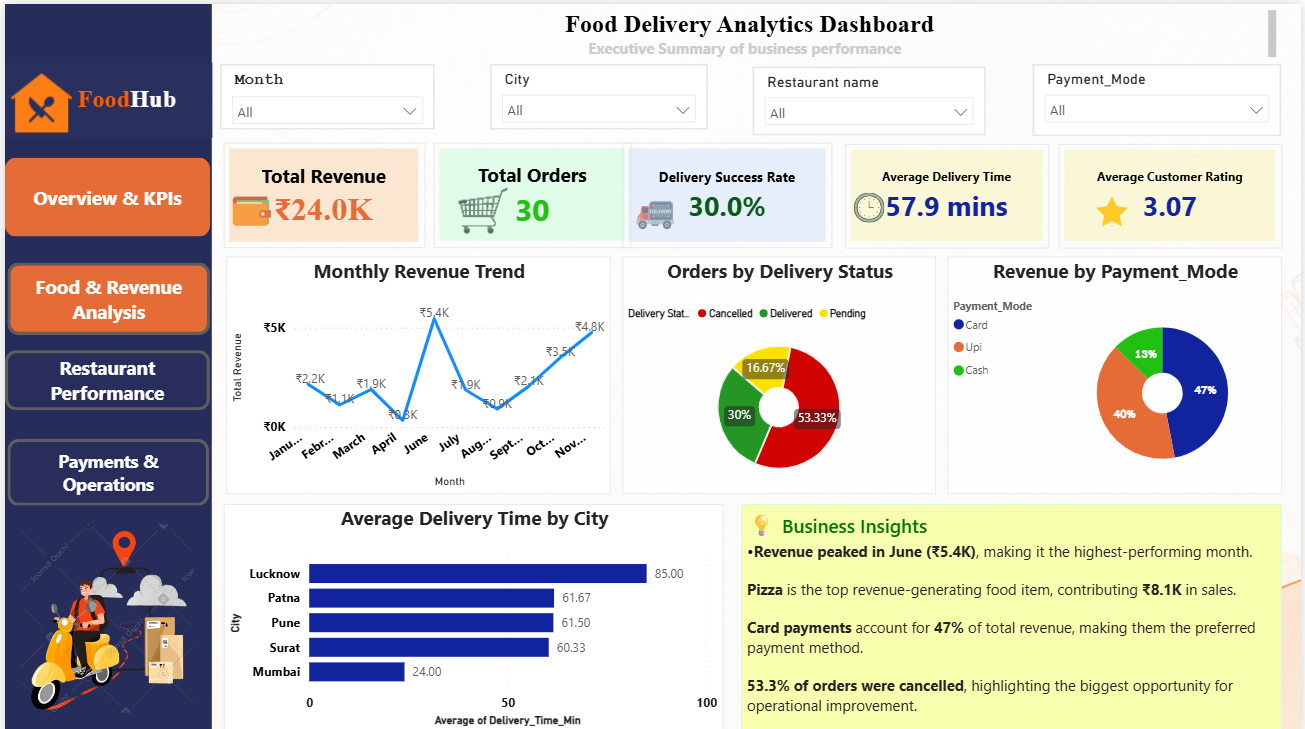

This screenshot's page, from the dashboard's own definition file:
{"tool":"powerbi","page":{"name":"Overview & KPIs","canvas":[1280,720],"ordinal":0},"visuals":[{"type":"textbox","box":[212.8,1.2,1048,56.7],"z":0},{"type":"shape","box":[0,0,204.4,719.4],"z":1000},{"type":"cardVisual","fields":{"Data":["Order_detail.Total Revenue"]},"box":[216.3,137.6,199,104.1],"z":1000,"group":"g3"},{"type":"group","id":"g1","title":"Group 4","box":[212.5,59.1,1047.7,70.5],"z":2000},{"type":"lineChart","title":"Monthly Revenue Trend","fields":{"Category":["Order_detail.Order_Date.Variation.Date Hierarchy.Month"],"Y":["Order_detail.Total Revenue"]},"box":[218.6,250.2,379.9,234.4],"z":2000,"group":"g4"},{"type":"cardVisual","fields":{"Data":["Order_detail.Delivery Success Rate"]},"box":[610.7,137.6,207,104.1],"z":3000,"group":"g3"},{"type":"clusteredBarChart","title":"Average  Delivery Time  by City","fields":{"Category":["Order_detail.City"],"Y":["Avg(Order_detail.Delivery_Time_Min)"]},"box":[216.3,493.9,493.9,225.6],"z":3000},{"type":"donutChart","title":"Orders by Delivery  Status","fields":{"Category":["Order_detail.Delivery _Status"],"Y":["Order_detail.Total Orders"]},"box":[609.6,249.8,309.7,234.4],"z":4000,"group":"g4"},{"type":"textbox","box":[727.6,493.9,533.2,225.6],"z":4000},{"type":"cardVisual","fields":{"Data":["Order_detail.Total Orders"]},"box":[423.3,137.6,195.1,103.7],"z":5000,"group":"g3"},{"type":"image","box":[222.7,178.4,43.2,51.1],"z":5000},{"type":"image","box":[443,179.3,57.8,48.6],"z":6000},{"type":"donutChart","title":"Revenue by Payment_Mode","fields":{"Category":["Order_detail.Payment_Mode"],"Y":["Order_detail.Total Revenue"]},"box":[930.4,249.8,330.4,234.4],"z":6000,"group":"g4"},{"type":"actionButton","box":[2.3,255.2,200,71.3],"z":6000,"group":"g2"},{"type":"actionButton","box":[0,151.8,202.5,77.8],"z":7000,"group":"g2"},{"type":"image","box":[617.7,182.8,49.7,40.5],"z":7000},{"type":"image","box":[2.3,60.9,56.7,48.5],"z":8000},{"type":"actionButton","title":"Payments  &","box":[2.3,429.3,199,65.9],"z":8000,"group":"g2"},{"type":"group","id":"g2","title":"Group 3","box":[0,57.9,204.7,437.3],"z":9000},{"type":"textbox","title":"FoodHub","box":[0,57.9,204.7,74],"z":9000,"group":"g2"},{"type":"cardVisual","fields":{"Data":["Order_detail.Average Customer Rating"]},"box":[1041,138.8,220.9,102.9],"z":9000,"group":"g3"},{"type":"slicer","fields":{"Values":["Order_detail.Order_Date.Variation.Date Hierarchy.Month"]},"box":[212.5,59.1,212.1,64.5],"z":10000,"group":"g1"},{"type":"image","box":[4.6,67.1,62.5,64.8],"z":10000},{"type":"slicer","fields":{"Values":["Order_detail.City"]},"box":[478.6,59.1,214.9,64.5],"z":11000,"group":"g1"},{"type":"group","id":"g3","title":"Group 1","box":[216.3,137.6,1045.7,104.1],"z":11000},{"type":"slicer","fields":{"Values":["Restaurants_Details.Restaurant name"]},"box":[737.9,61.3,230.1,67.8],"z":12000,"group":"g1"},{"type":"group","id":"g4","title":"Group 2","box":[218.6,249.8,1042.2,234.8],"z":12000},{"type":"image","box":[838.3,182,30.1,39.3],"z":12001,"group":"g3"},{"type":"slicer","fields":{"Values":["Order_detail.Payment_Mode"]},"box":[1015.1,59.1,245.4,71],"z":13000,"group":"g1"},{"type":"actionButton","box":[0,342.3,202.3,59.3],"z":13000,"group":"g2"},{"type":"image","box":[16.1,513.8,170.1,186.2],"z":13000},{"type":"image","box":[1075.2,182.7,35.8,44.4],"z":17000,"group":"g3"},{"type":"cardVisual","fields":{"Data":["Order_detail.Avg Delivery Time"]},"box":[829.3,138.8,201.3,102.9],"z":18001,"group":"g3"}]}

Visuals, with their boxes in screenshot pixels (x1, y1, x2, y2), scaled from the page's 1280x720 canvas onto the 1305x729 screenshot:
textbox: <bbox>217, 1, 1285, 59</bbox>
shape: <bbox>0, 0, 208, 728</bbox>
cardVisual - Order_detail.Total Revenue: <bbox>221, 139, 423, 245</bbox>
"Group 4" group: <bbox>217, 60, 1285, 131</bbox>
"Monthly Revenue Trend" lineChart: <bbox>223, 253, 610, 491</bbox>
cardVisual - Order_detail.Delivery Success Rate: <bbox>623, 139, 834, 245</bbox>
"Average  Delivery Time  by City" clusteredBarChart: <bbox>221, 500, 724, 728</bbox>
"Orders by Delivery  Status" donutChart: <bbox>622, 253, 937, 490</bbox>
textbox: <bbox>742, 500, 1285, 728</bbox>
cardVisual - Order_detail.Total Orders: <bbox>432, 139, 630, 244</bbox>
image: <bbox>227, 181, 271, 232</bbox>
image: <bbox>452, 182, 511, 231</bbox>
"Revenue by Payment_Mode" donutChart: <bbox>949, 253, 1285, 490</bbox>
actionButton: <bbox>2, 258, 206, 331</bbox>
actionButton: <bbox>0, 154, 206, 232</bbox>
image: <bbox>630, 185, 680, 226</bbox>
image: <bbox>2, 62, 60, 111</bbox>
"Payments  &" actionButton: <bbox>2, 435, 205, 501</bbox>
"Group 3" group: <bbox>0, 59, 209, 501</bbox>
"FoodHub" textbox: <bbox>0, 59, 209, 134</bbox>
cardVisual - Order_detail.Average Customer Rating: <bbox>1061, 141, 1287, 245</bbox>
slicer - Order_detail.Order_Date.Variation.Date Hierarchy.Month: <bbox>217, 60, 433, 125</bbox>
image: <bbox>5, 68, 68, 134</bbox>
slicer - Order_detail.City: <bbox>488, 60, 707, 125</bbox>
"Group 1" group: <bbox>221, 139, 1287, 245</bbox>
slicer - Restaurants_Details.Restaurant name: <bbox>752, 62, 987, 131</bbox>
"Group 2" group: <bbox>223, 253, 1285, 491</bbox>
image: <bbox>855, 184, 885, 224</bbox>
slicer - Order_detail.Payment_Mode: <bbox>1035, 60, 1285, 132</bbox>
actionButton: <bbox>0, 347, 206, 407</bbox>
image: <bbox>16, 520, 190, 709</bbox>
image: <bbox>1096, 185, 1133, 230</bbox>
cardVisual - Order_detail.Avg Delivery Time: <bbox>845, 141, 1051, 245</bbox>
